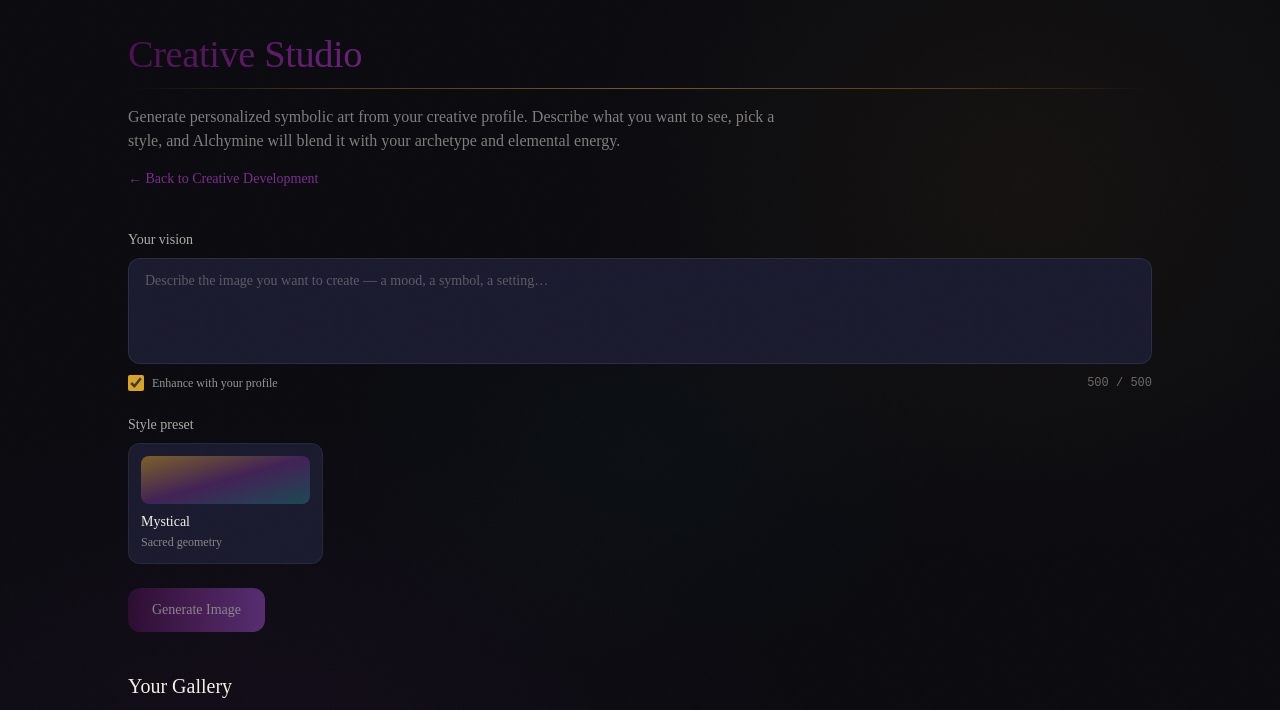
Scenario: CreativeStudioPage plan upsell › says when a spent allowance comes back
The width and height of the screenshot is (1280, 710).
Replace the text in the text box labelled "Your vision" with "a quiet forest" at (640, 311), box [128,258,1152,364]
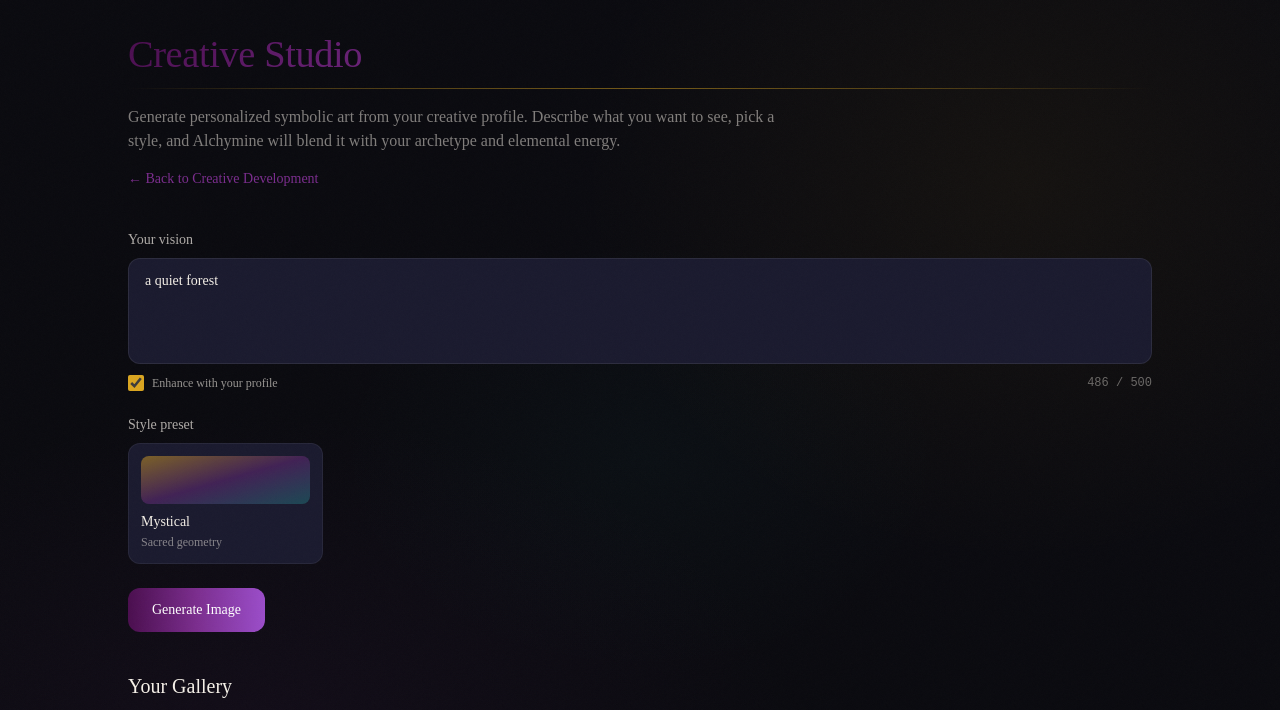
Click the button "Generate Image" at (196, 610), box [128,588,265,632]
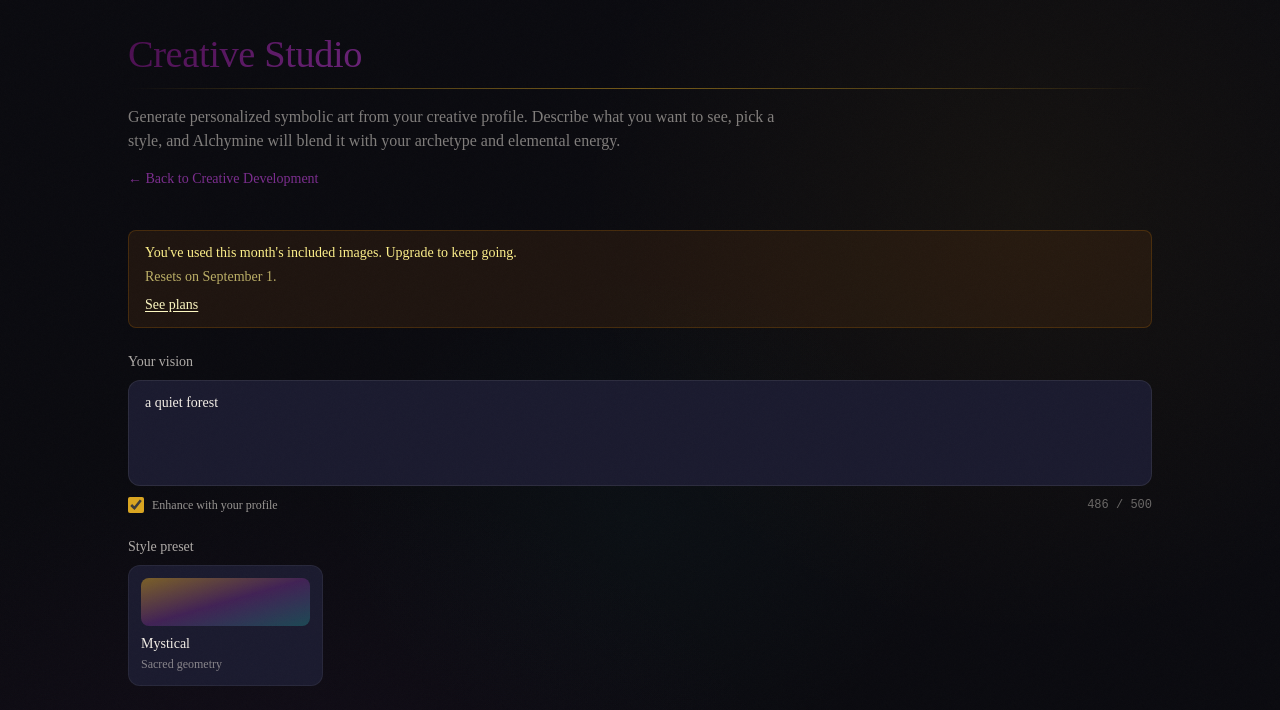
Check: the text "Resets on September 1." is shown, box [145,269,276,284]
Check: the link "See plans" is shown, box [145,295,198,315]
